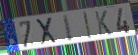4: (115, 6, 131, 35)
7: (19, 19, 33, 48)
I: (62, 14, 74, 43), (82, 10, 93, 40)
K: (93, 10, 113, 37)
X: (34, 16, 59, 47)
